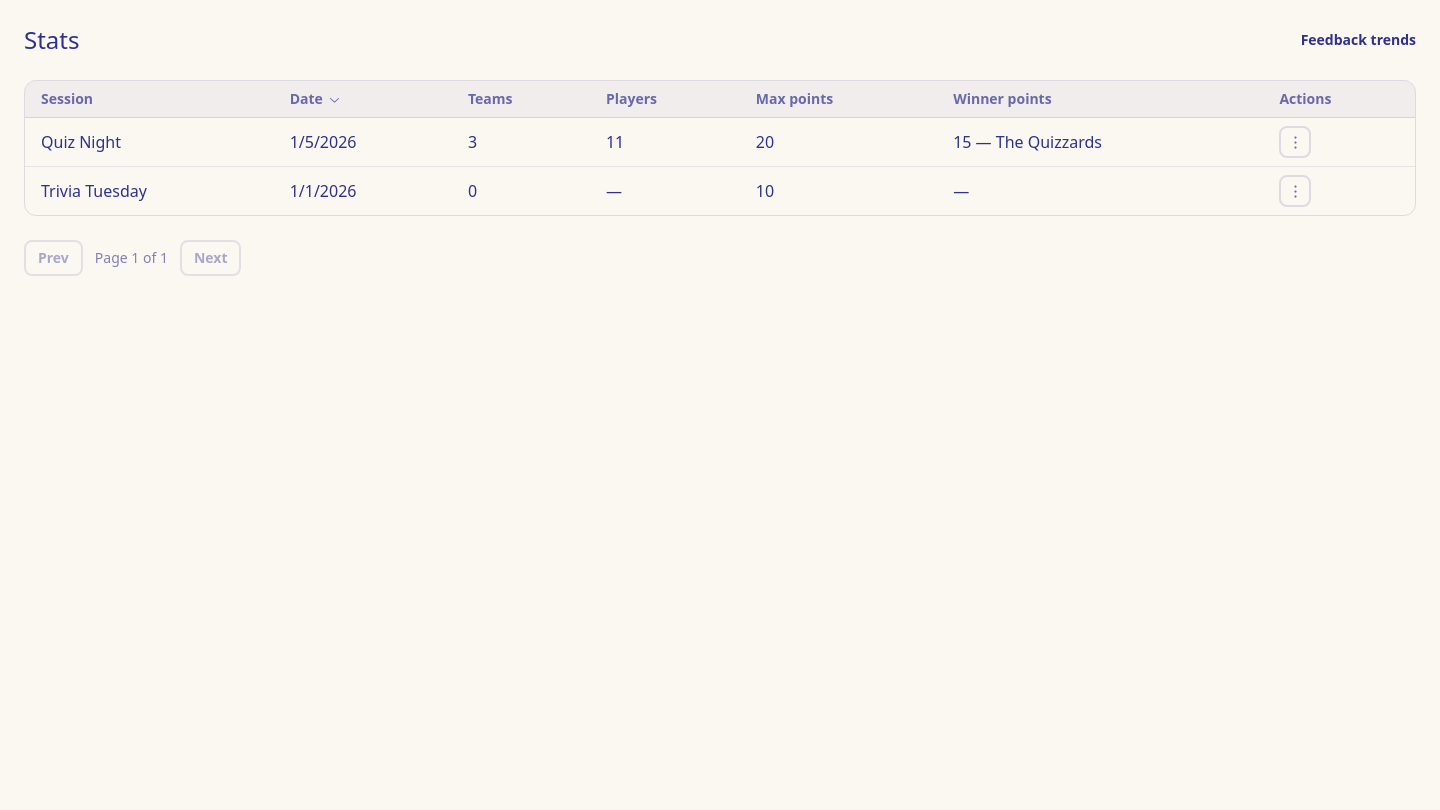
Test: PlayedSessionsPanel › rename session › does not rename the session when the dialog is cancelled
The image size is (1440, 810).
Expected: the link "Quiz Night" is shown, [41,131,121,153]
Click the button named "Actions for Quiz Night" at [1295, 142], box [1279,126,1311,158]
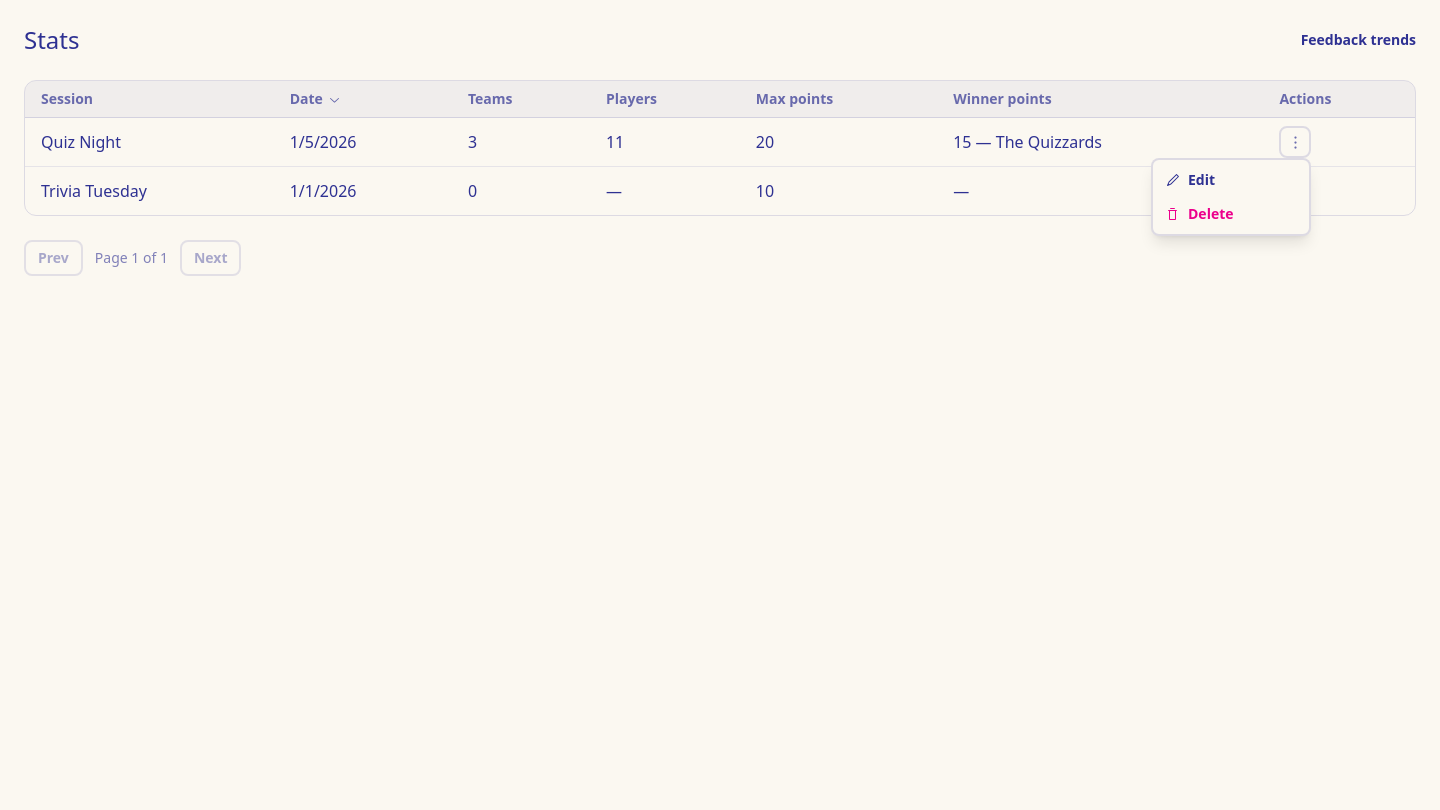
Click the menu item "Edit" at [1190, 180], box [1165,170,1215,189]
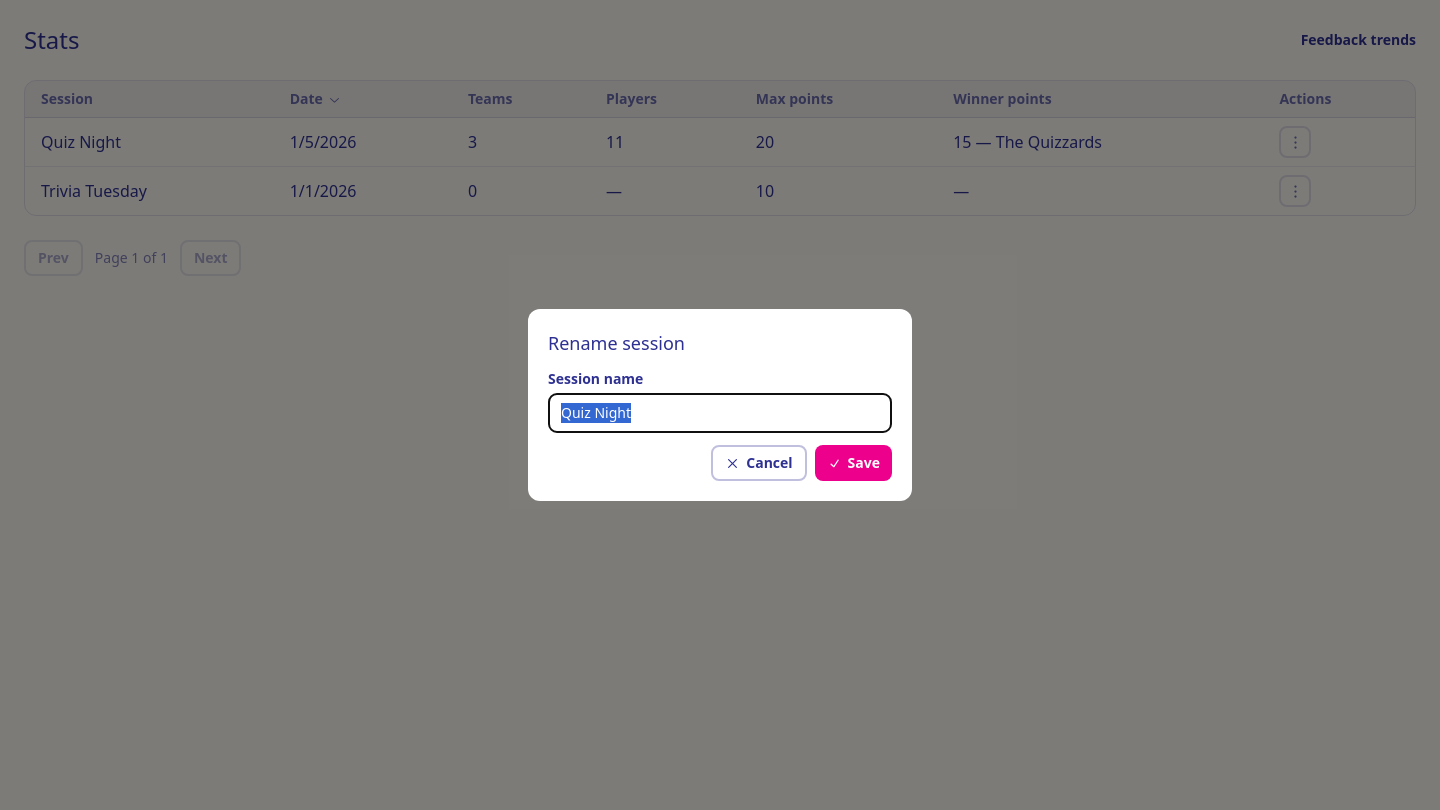
Click the button "Cancel" at [759, 463], box [711,445,807,481]
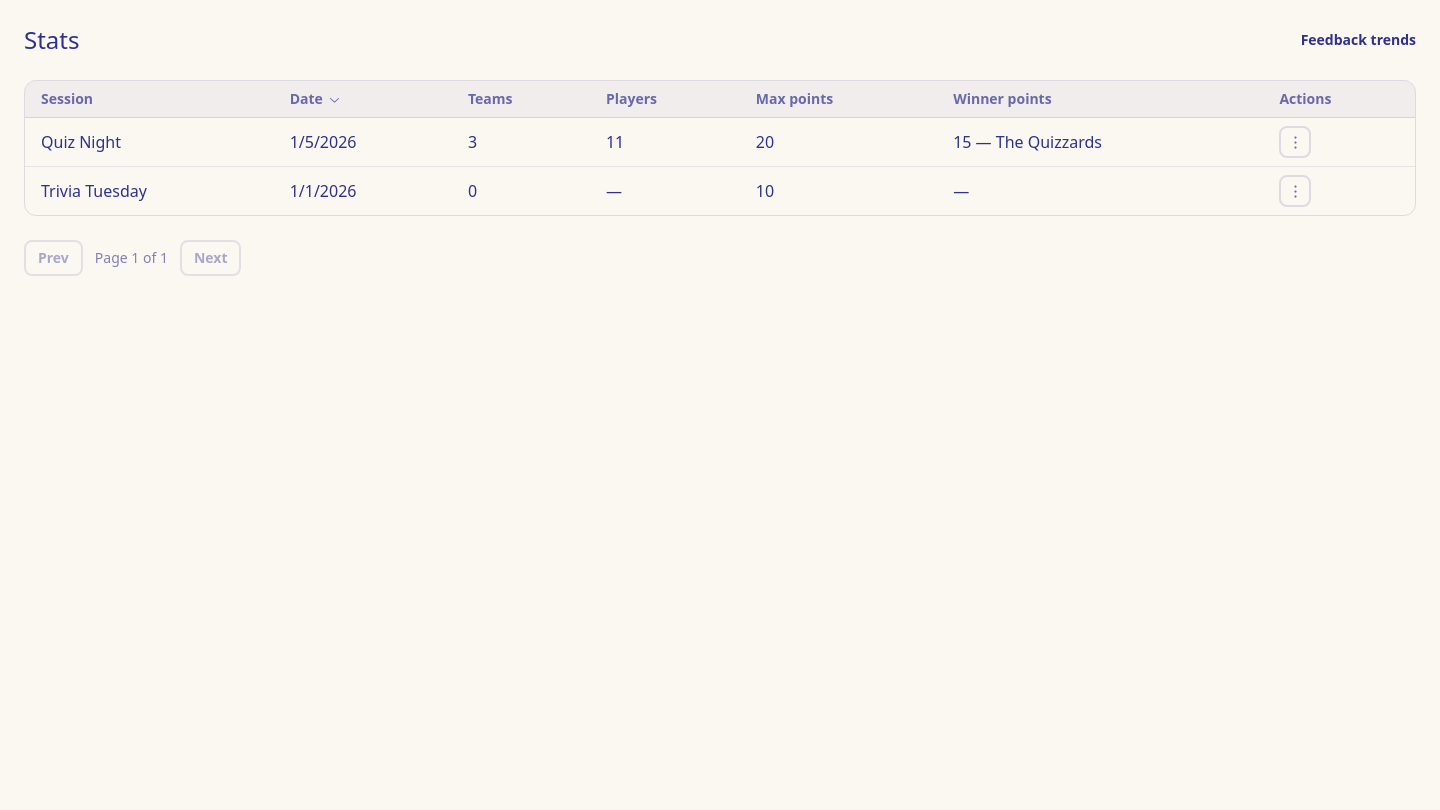
Expected: the heading "Rename session" is gone
